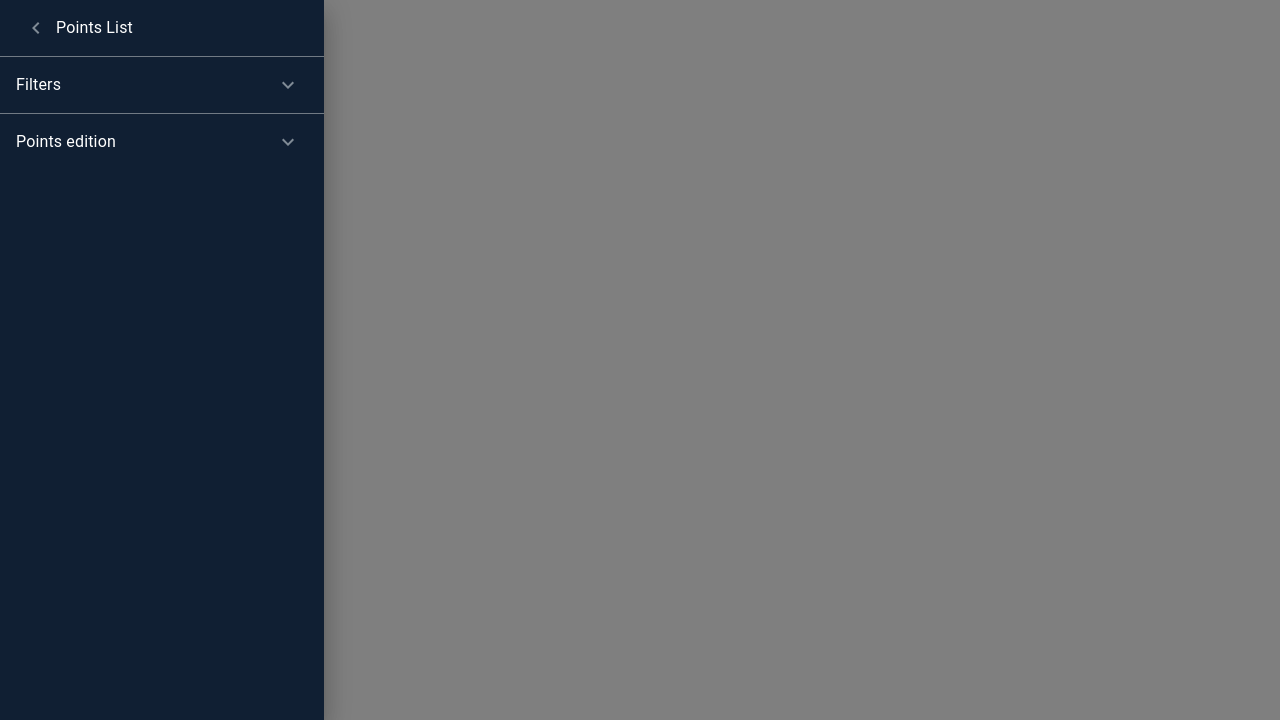
Test case: check pointsView category filter subbmenu opens correctly
What coordinates should you click on to do the following:
click the button with test id "filters"
I would click on:
 (39, 84)
Its box is [0, 57, 324, 113].
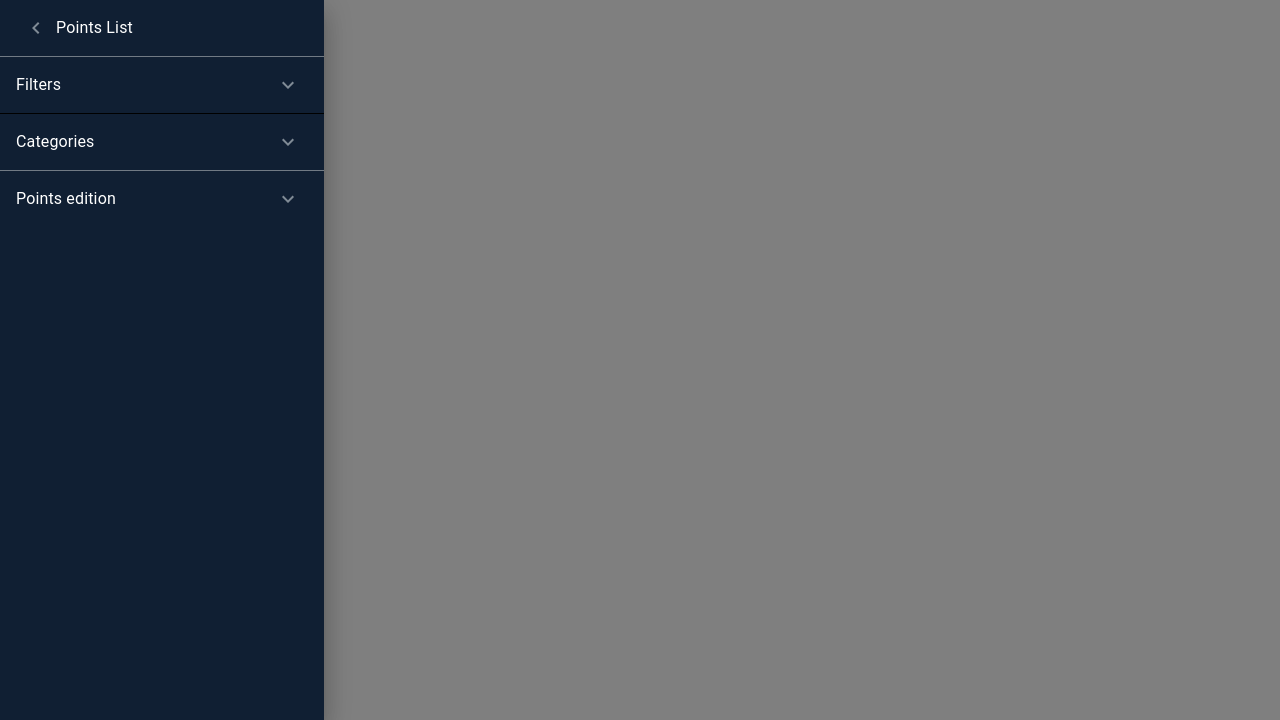
Check: the button with test id "filtersCategories" is shown
What coordinates should you click on to do the following:
click the button with test id "filtersCategories"
I would click on:
 (55, 142)
Its box is [0, 114, 324, 170].
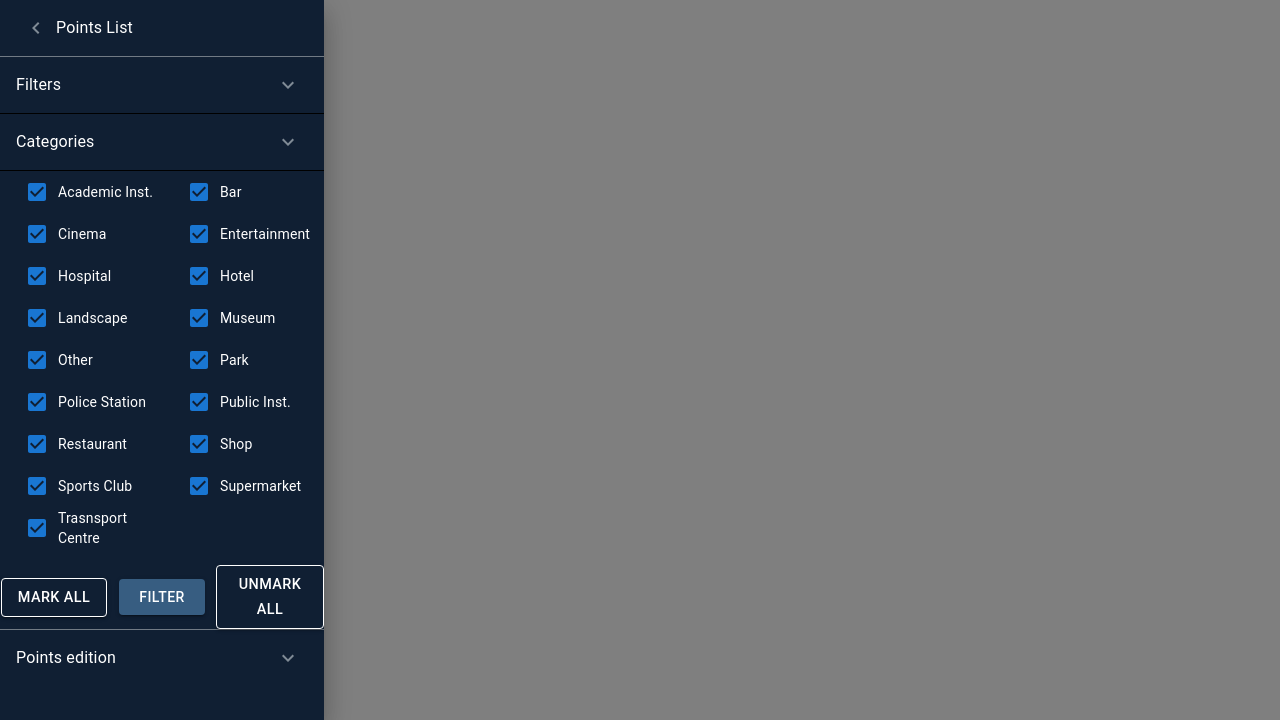
Check: the button with test id "filterButton" is shown, box [119, 579, 205, 616]
